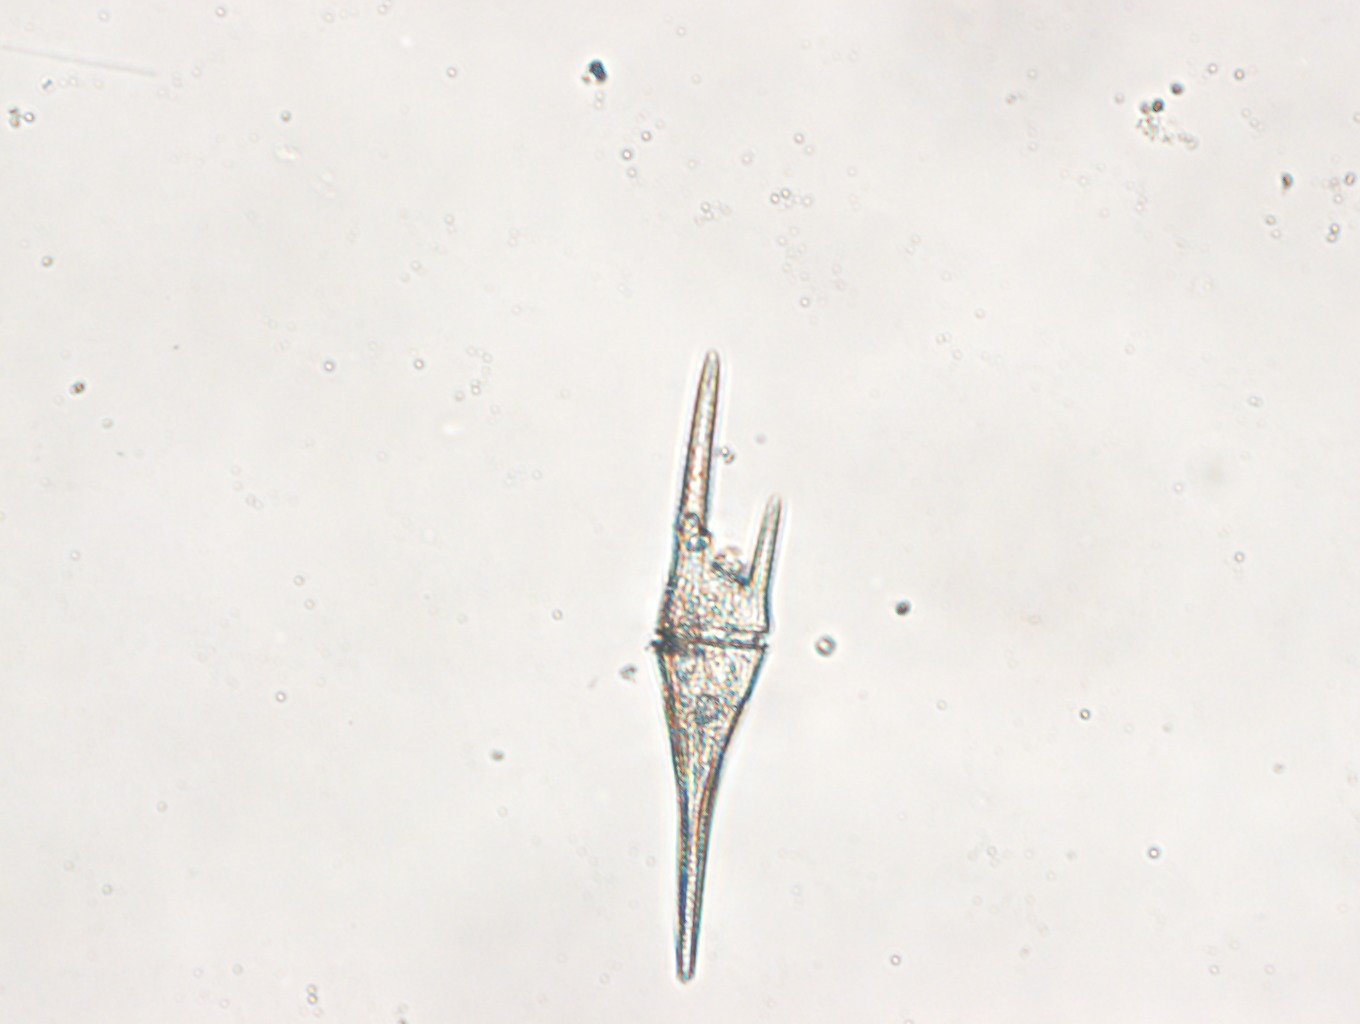ceratium furca: (650, 346, 797, 987)
